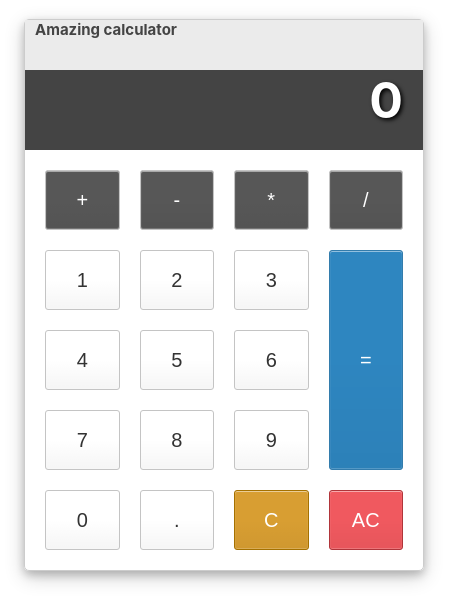
Test case: testing multiplication operator
Click the button "4" at (82, 360), box 45,330 -> 120,390
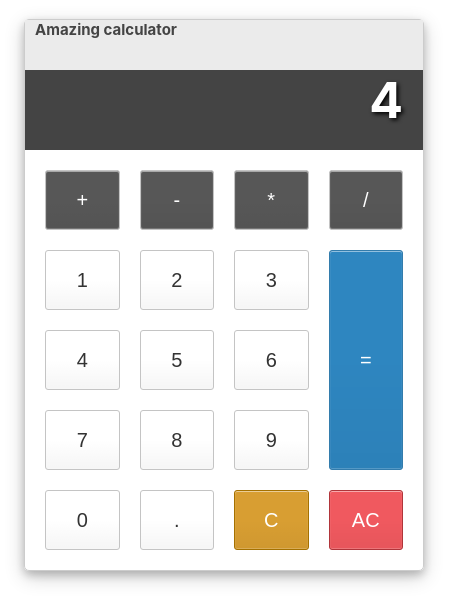
Click the button "*" at (271, 200), box 234,170 -> 308,230
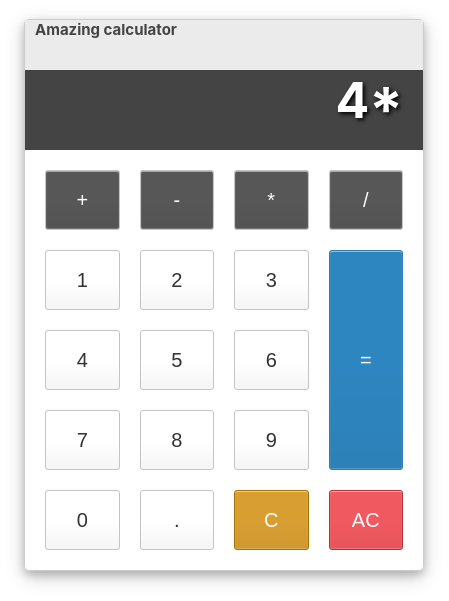
Click the button "2" at (177, 280), box 140,250 -> 214,310
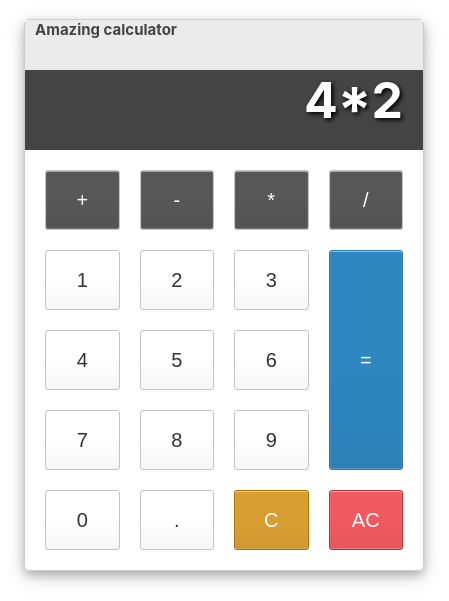
Click the button "=" at (366, 360), box 328,250 -> 403,470
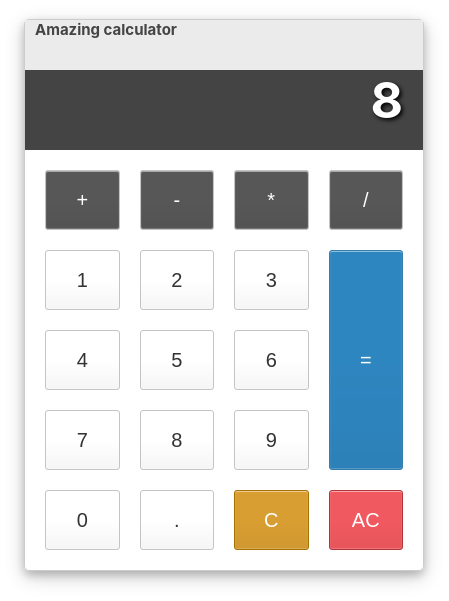
Result: the heading with test id "screen" reads "8" at 370,70 -> 403,130
